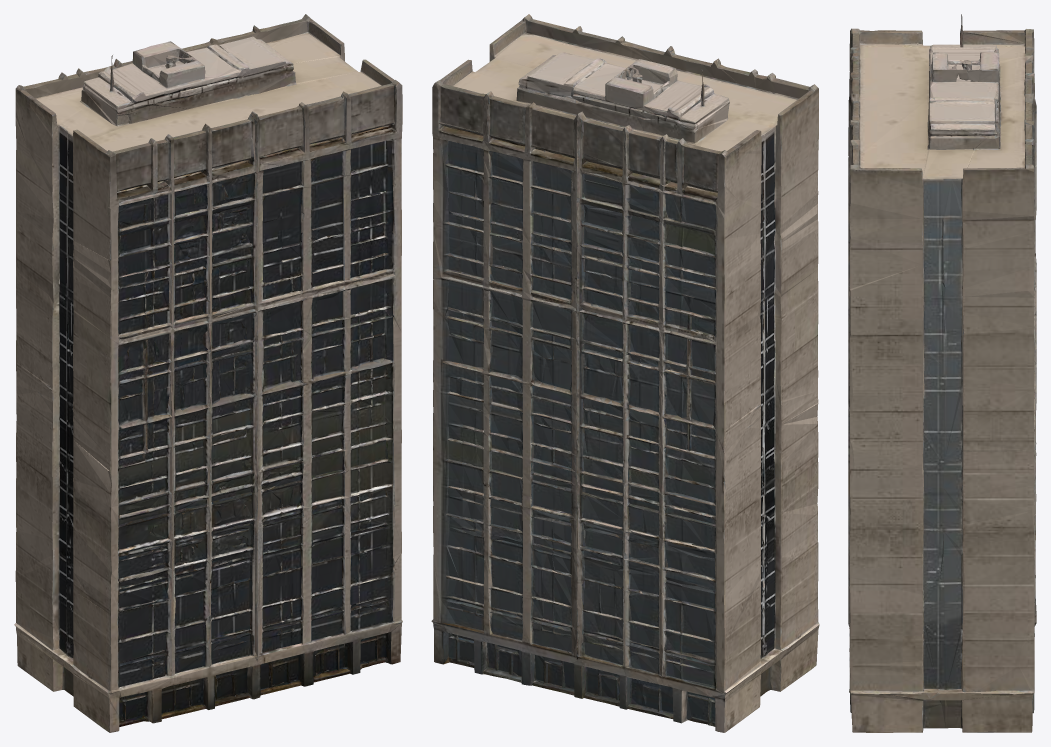
Rendered from tower_a.glb.
3 renders of one model, left to right at view 1: azimuth 30°, elevation 25°; view 2: azimuth 150°, elevation 25°; view 3: azimuth 270°, elevation 25°, orthographic. The views are drawn at different scales.
Parts seen in each view (by area): view 1: world; view 2: world; view 3: world.
Part boxes in pixels (x1,y1,x2,y2): world: [14, 14, 402, 732]; world: [431, 14, 819, 732]; world: [848, 14, 1036, 732].
Size of the model in its own units: 0.9873 by 1.99 by 0.5581.
Materials: 1 (1 with a texture image).
